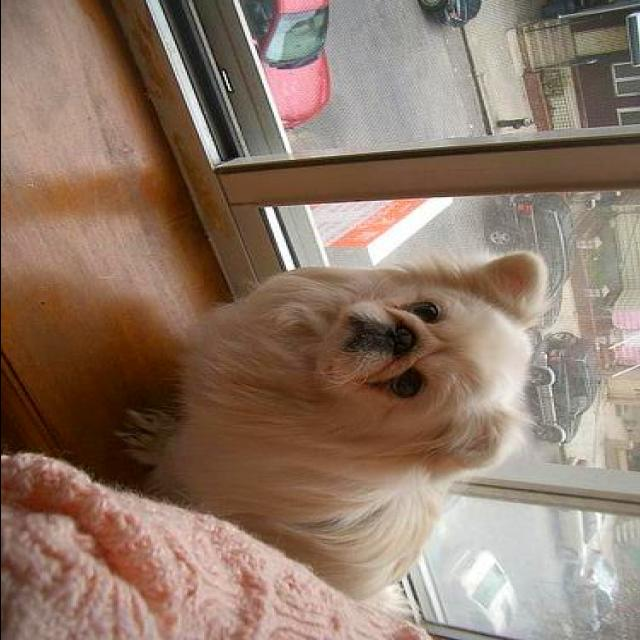pekinese: (124, 250, 548, 614)
